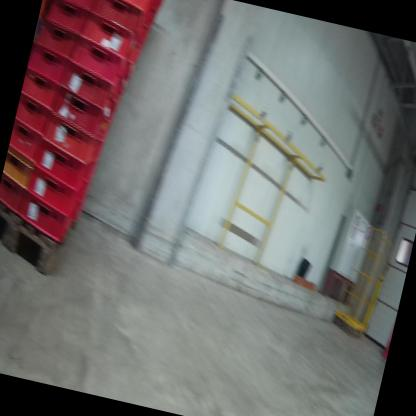pallet: (0, 199, 83, 279)
